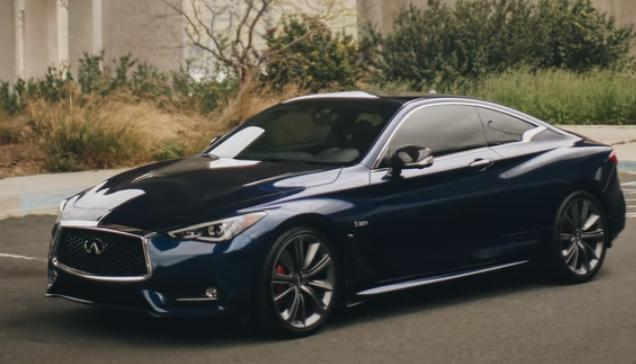car: (31, 82, 632, 347)
